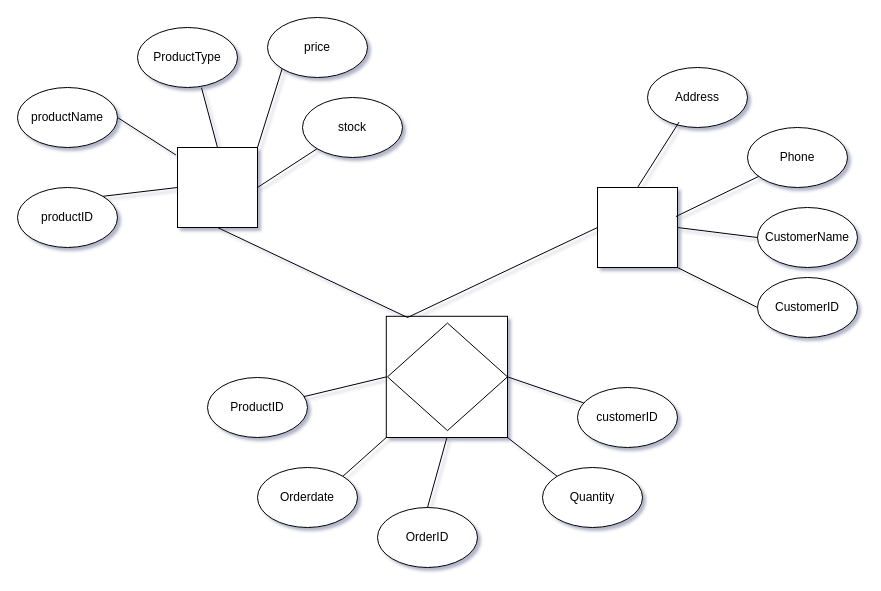
Some shapes in this 881 by 591 pixel diagram are drawn without their labels. The shapes that lost their labels are listed below. From the top down, each one's centre as x and y in pixels, then its label:
the point at 217,187: Product
the point at 637,227: Customer
the point at 447,376: order
